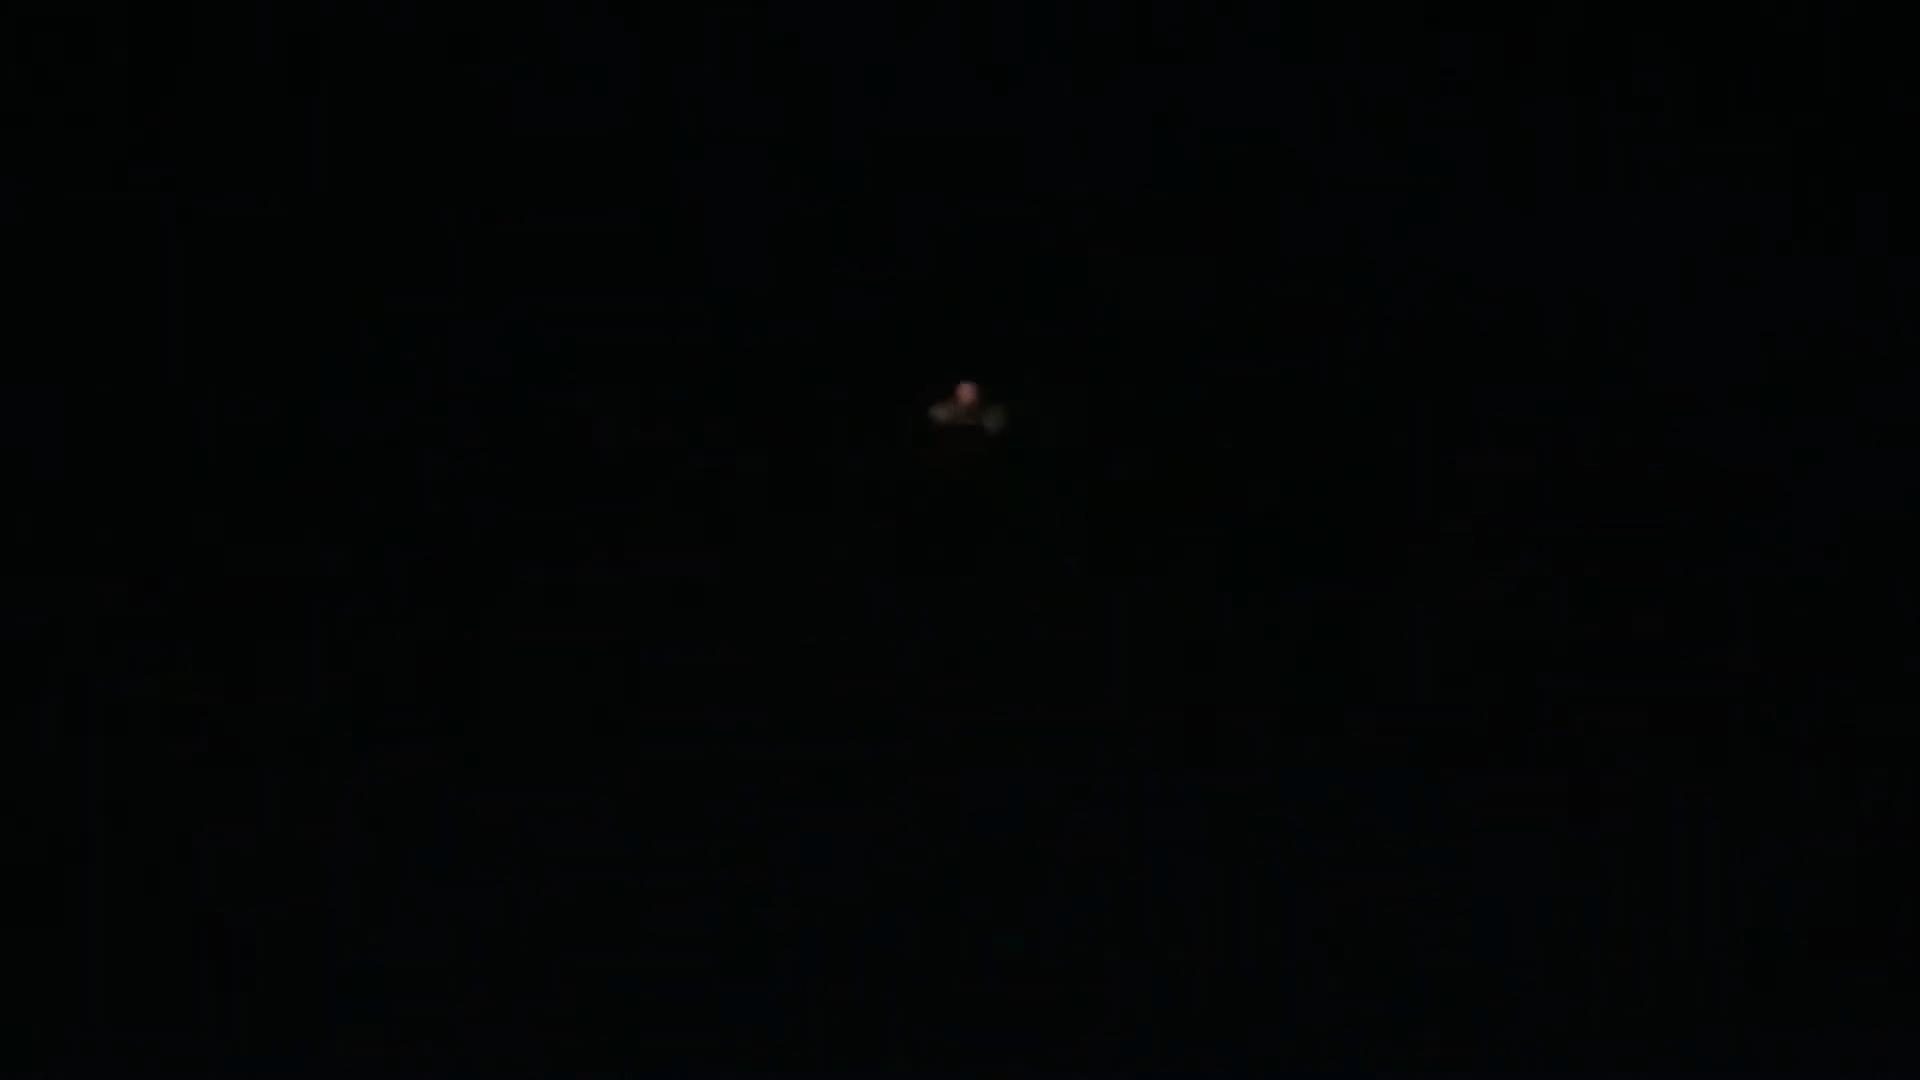Plane: (866, 361, 1077, 462)
